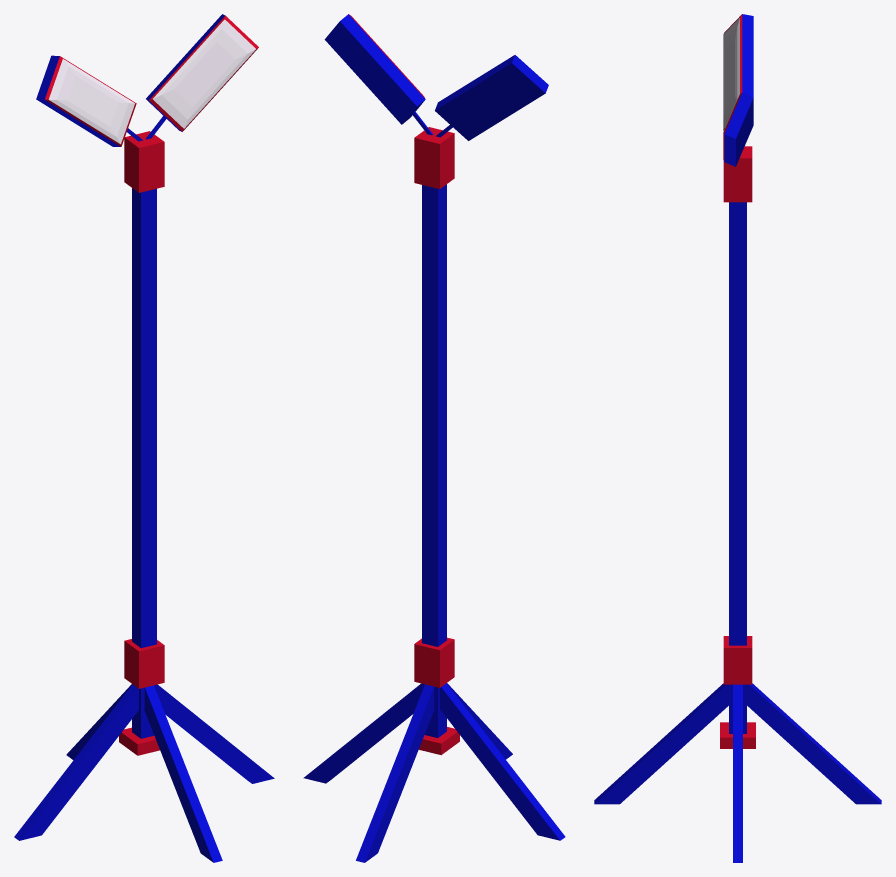
The model's file is LightStand_1.fbx.
The picture shows the model from 3 angles, left to right: view 1: azimuth 30°, elevation 25°; view 2: azimuth 150°, elevation 25°; view 3: azimuth 270°, elevation 25°; orthographic projection. The views are drawn at different scales.
Parts seen in each view (by area): view 1: LightStand_1; view 2: LightStand_1; view 3: LightStand_1.
Part boxes in pixels (x1,y1,x2,y2): LightStand_1: [14, 14, 274, 862]; LightStand_1: [303, 14, 565, 862]; LightStand_1: [594, 14, 881, 862].
Bounding box in the file's own units: 80.07 × 231 × 80.07.
